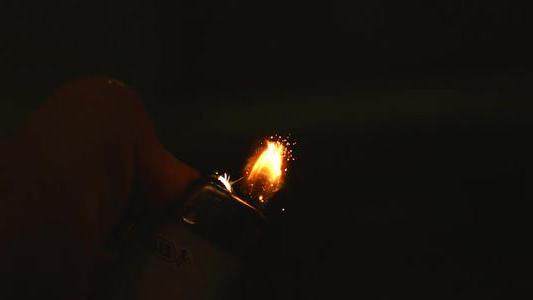fire: (240, 118, 295, 198)
